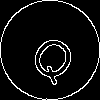Q: (25, 25, 85, 87)
